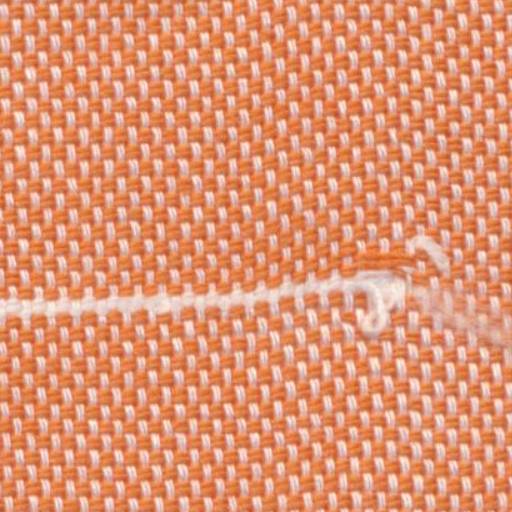DuanSha: (328, 214, 492, 366)
